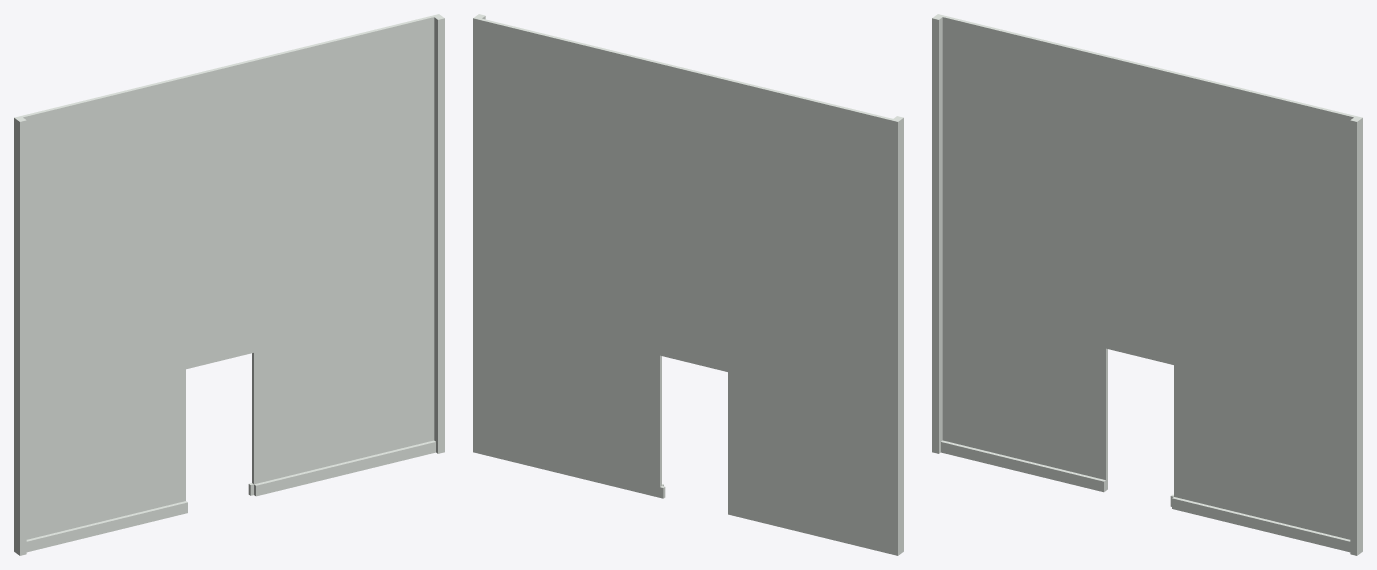
File: doorwall.obj
The picture shows the model from 3 angles, left to right: view 1: azimuth 30°, elevation 25°; view 2: azimuth 150°, elevation 25°; view 3: azimuth 330°, elevation 25°; orthographic projection.
Size of the model in its own units: 12.5 by 12.2 by 0.3.
1 material, 1 textured.
